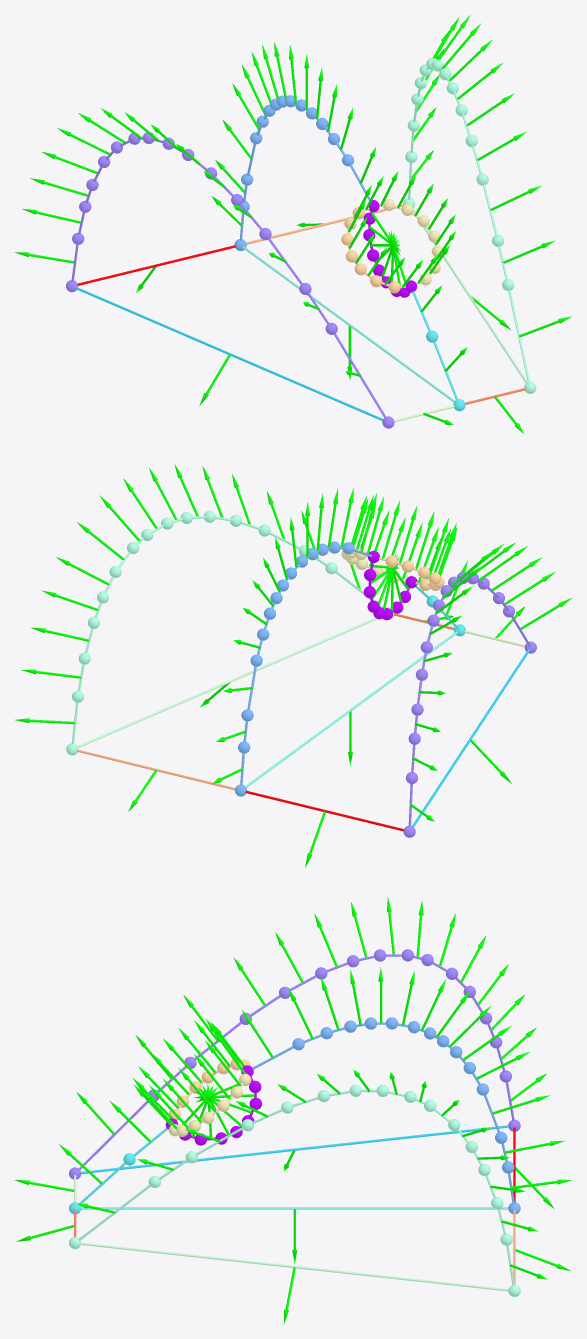
The model's file is onshape_simple_mouse.gltf.
3 renders of one model, top to bottom at view 1: azimuth 30°, elevation 25°; view 2: azimuth 150°, elevation 25°; view 3: azimuth 270°, elevation 25°, orthographic.
Bounding box in the file's own units: 0.7826 × 0.5275 × 0.8977.
